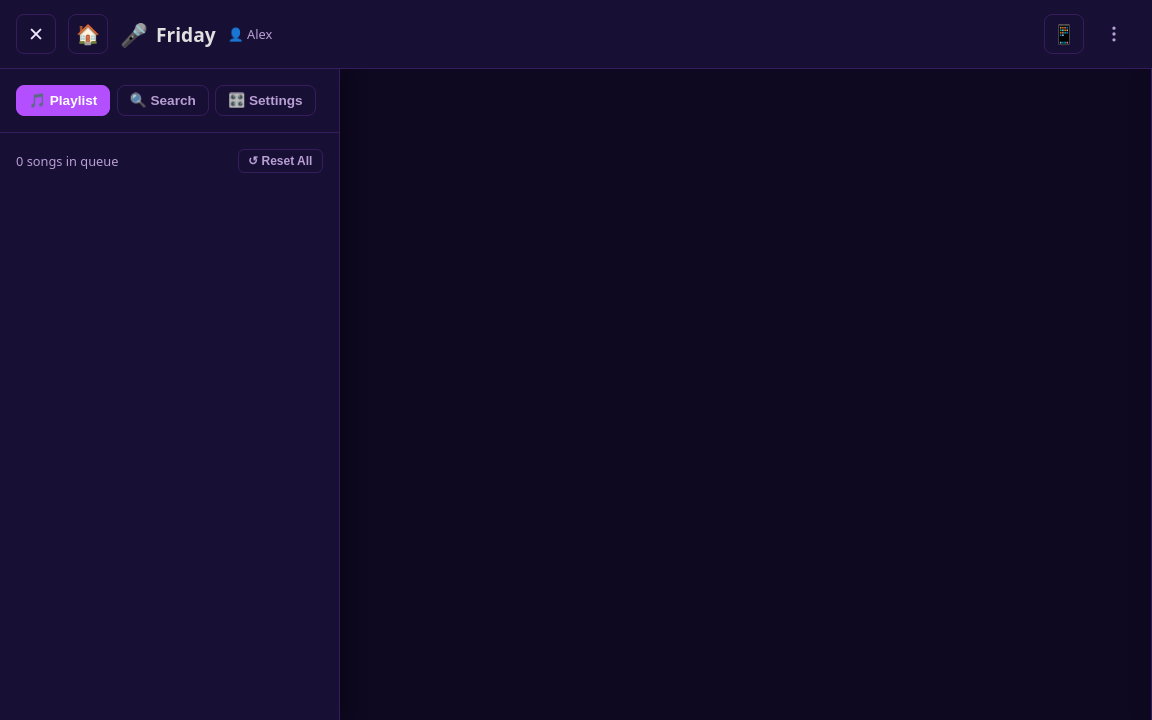
Scenario: groups party controls and sign-out in one three-dot menu
Expected: the text "Sign out" is not shown
Click the button named "Party actions" at [1114, 34], box [1092,12,1136,56]
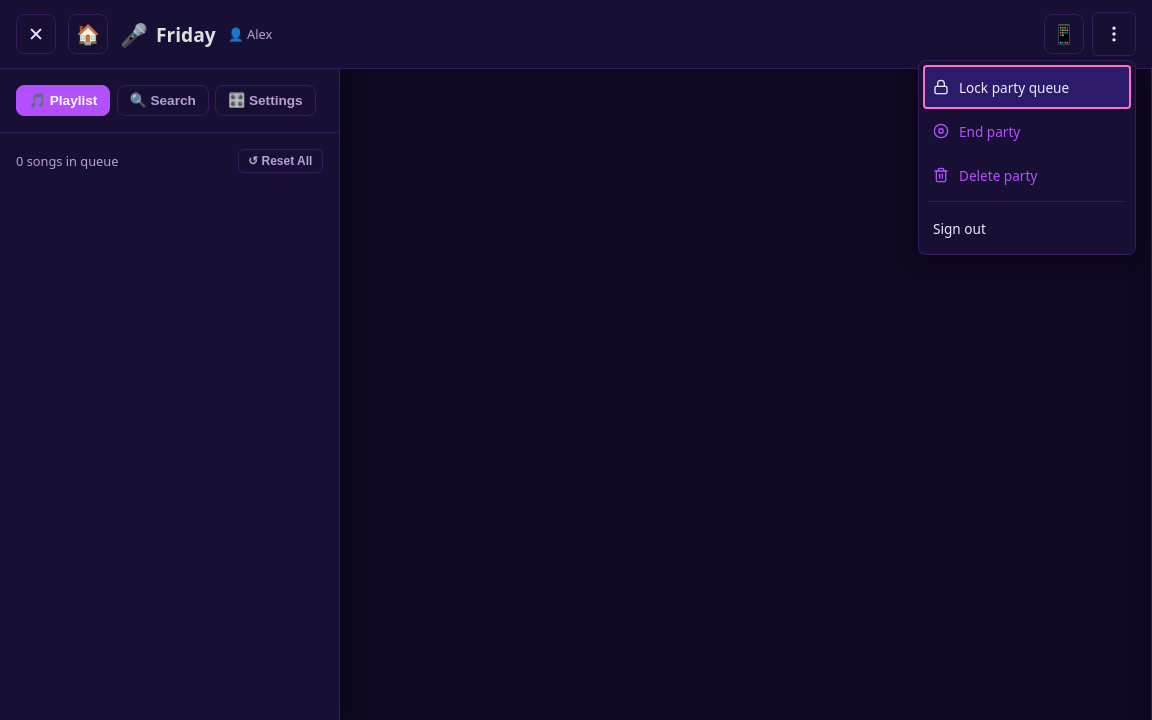
Click the menu item "Sign out" at [1027, 228], box [923,206,1131,250]
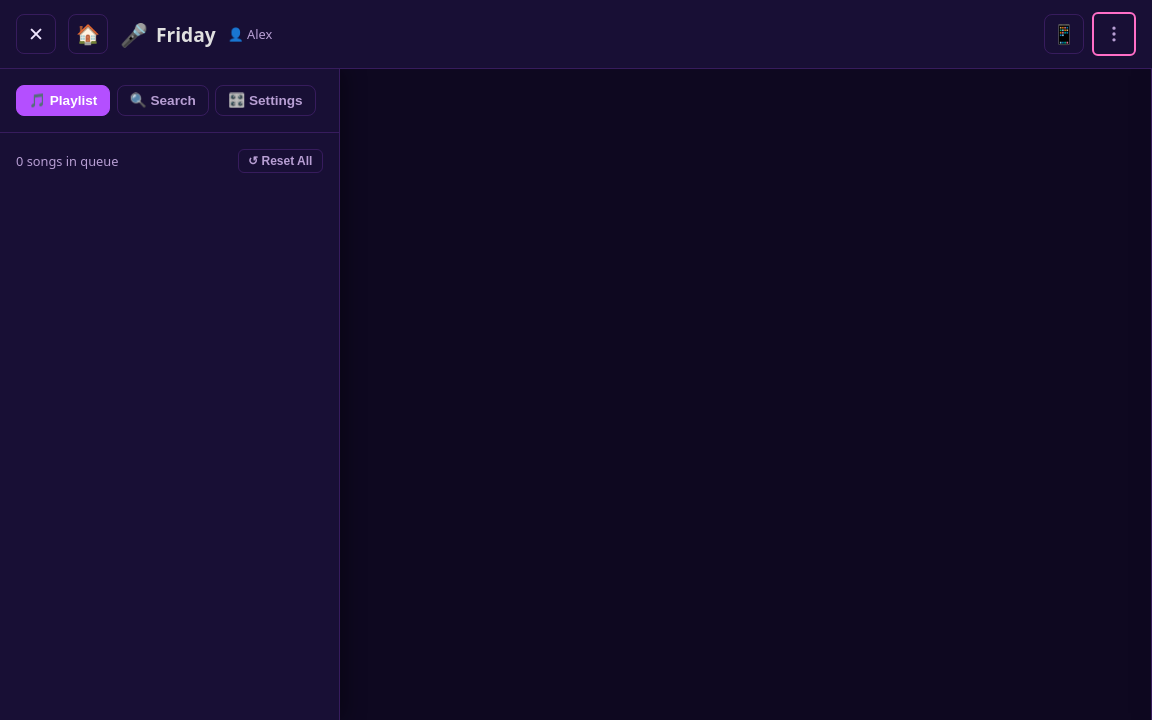
Expected: the menu is gone
